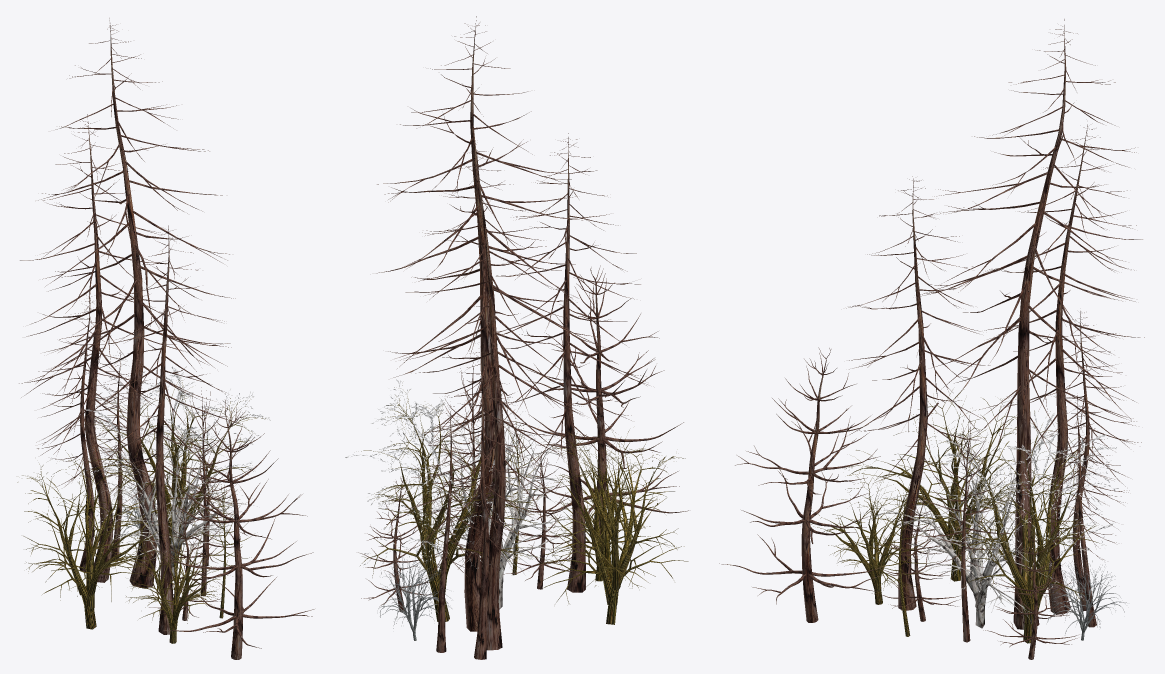
Rendered from arbres.fbx.
3 renders of one model, left to right at view 1: azimuth 30°, elevation 25°; view 2: azimuth 150°, elevation 25°; view 3: azimuth 270°, elevation 25°, orthographic. The views are drawn at different scales.
Visible parts, largest first — view 1: tree.002, tree.003, tree.005, tree.004, tree.012, tree.001, tree, tree.013, leaves, tree.006, tree.008, tree.007 (+3 smaller); view 2: tree.002, tree.003, tree.005, tree.004, tree, tree.012, tree.001, leaves, tree.006, tree.007, tree.013, tree.009 (+4 smaller); view 3: tree.002, tree, tree.003, tree.004, tree.012, tree.001, tree.005, leaves, tree.013, tree.006, tree.008, tree.007 (+4 smaller).
Boxes of the visible parts, x1=… form: tree.002: x1=38, y1=18, x2=235, y2=588; tree.003: x1=19, y1=114, x2=186, y2=582; tree.005: x1=17, y1=450, x2=183, y2=629; tree.004: x1=93, y1=225, x2=241, y2=634; tree.012: x1=159, y1=400, x2=314, y2=659; tree.001: x1=93, y1=420, x2=257, y2=580; tree: x1=83, y1=380, x2=265, y2=576; tree.013: x1=126, y1=520, x2=232, y2=643; leaves: x1=80, y1=366, x2=270, y2=555; tree.006: x1=37, y1=295, x2=129, y2=571; tree.008: x1=165, y1=387, x2=251, y2=596; tree.007: x1=90, y1=352, x2=154, y2=562; tree.002: x1=376, y1=16, x2=603, y2=631; tree.003: x1=395, y1=144, x2=584, y2=650; tree.005: x1=537, y1=430, x2=688, y2=624; tree.004: x1=496, y1=133, x2=649, y2=592; tree: x1=360, y1=385, x2=537, y2=621; tree.012: x1=507, y1=265, x2=688, y2=546; tree.001: x1=409, y1=411, x2=576, y2=609; leaves: x1=345, y1=379, x2=541, y2=576; tree.006: x1=425, y1=341, x2=533, y2=659; tree.007: x1=399, y1=405, x2=491, y2=652; tree.013: x1=550, y1=438, x2=650, y2=581; tree.009: x1=378, y1=549, x2=451, y2=640; tree.002: x1=916, y1=19, x2=1142, y2=629; tree: x1=948, y1=410, x2=1099, y2=643; tree.003: x1=980, y1=124, x2=1144, y2=614; tree.004: x1=846, y1=176, x2=990, y2=610; tree.012: x1=719, y1=347, x2=883, y2=622; tree.001: x1=865, y1=435, x2=1046, y2=628; tree.005: x1=842, y1=389, x2=1016, y2=581; leaves: x1=944, y1=411, x2=1119, y2=605; tree.013: x1=801, y1=472, x2=926, y2=604; tree.006: x1=1035, y1=311, x2=1141, y2=611; tree.008: x1=909, y1=416, x2=1019, y2=642; tree.007: x1=1046, y1=395, x2=1121, y2=627.
Size of the model in its own units: 2166 by 4636 by 3002.
